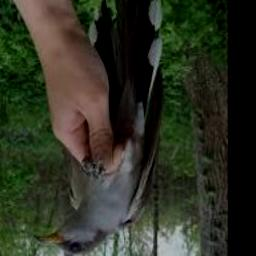Cuckoo: (35, 0, 163, 256)
